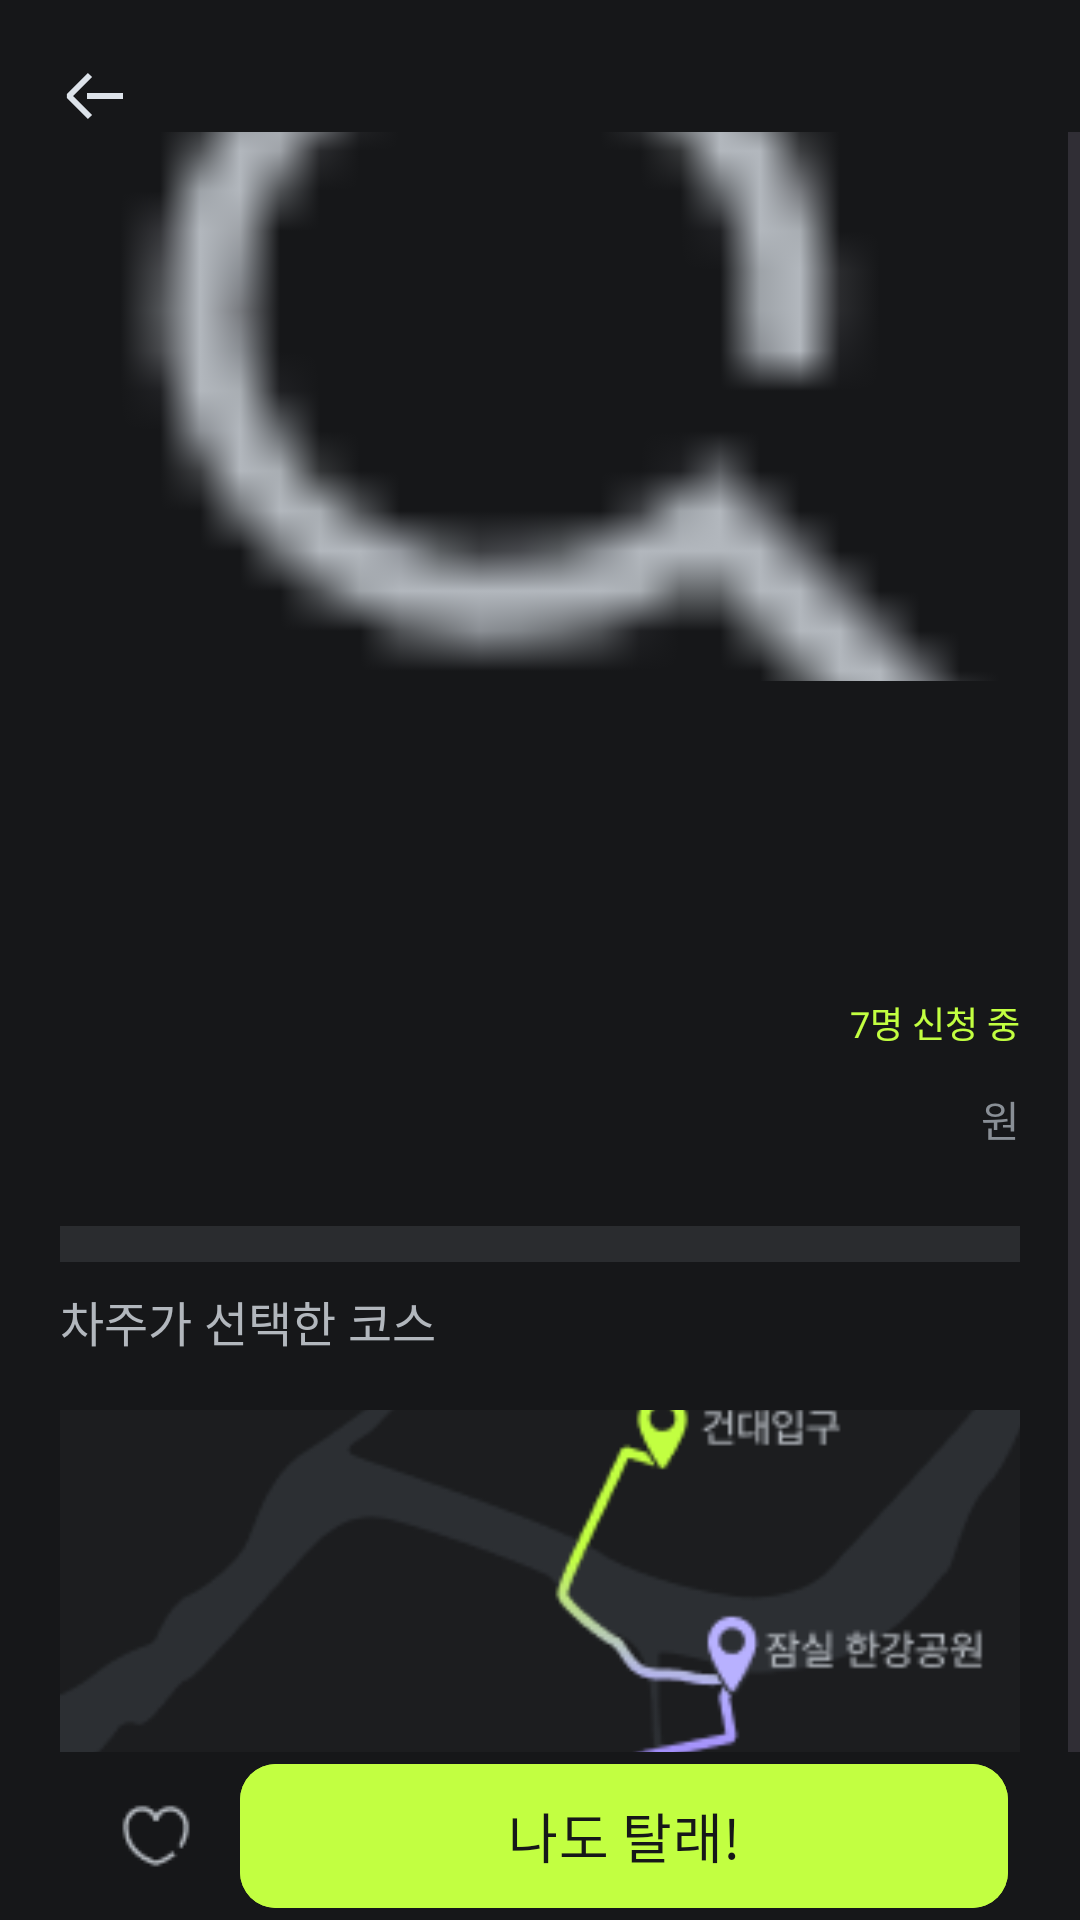

Where to tap for icons on this 1080 x 1920 app screen, as [x,y]:
back: [94,96]
heart: [156,1836]
